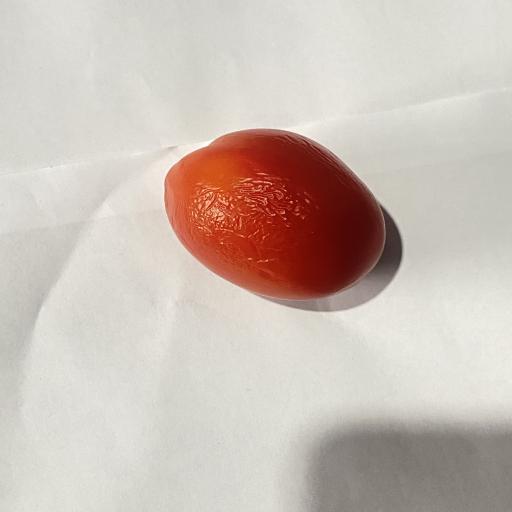spoiled: (165, 129, 385, 300)
